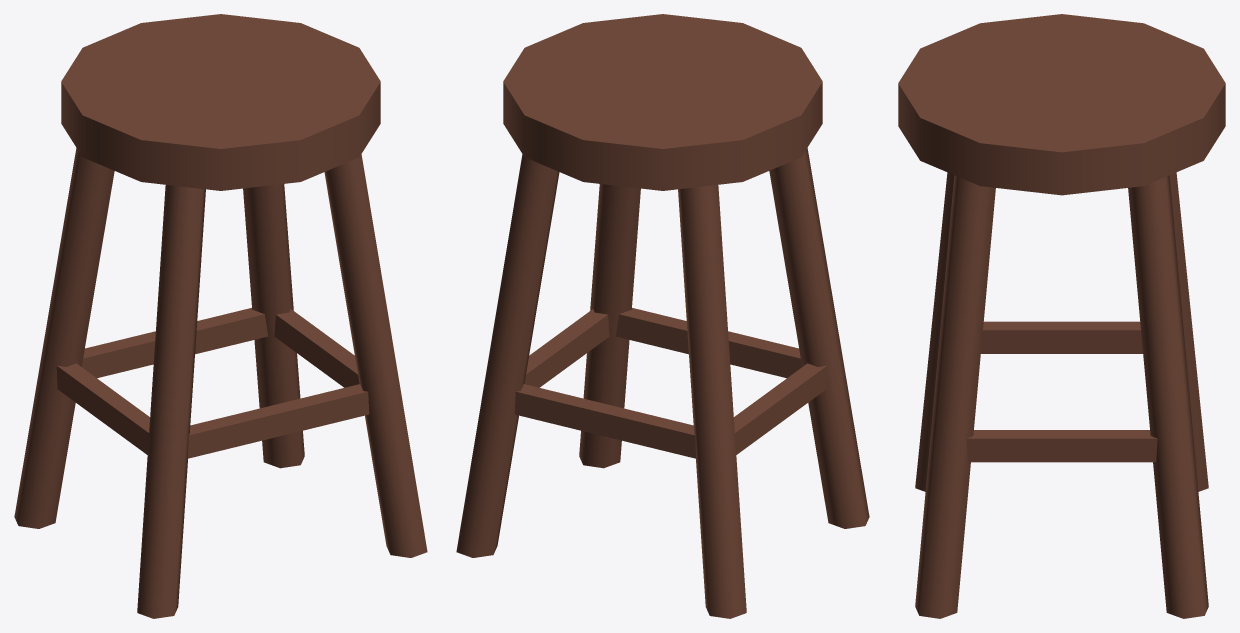
Rendered from Chair_01.fbx.
3 renders of one model, left to right at view 1: azimuth 30°, elevation 25°; view 2: azimuth 150°, elevation 25°; view 3: azimuth 270°, elevation 25°, orthographic. The views are drawn at different scales.
Parts seen in each view (by area): view 1: Chair_01; view 2: Chair_01; view 3: Chair_01.
Part boxes in pixels (x1,y1,x2,y2): Chair_01: (14, 14, 427, 618); Chair_01: (456, 14, 869, 618); Chair_01: (898, 14, 1225, 618).
Bounding box in the file's own units: 0.3507 × 0.5301 × 0.339.
